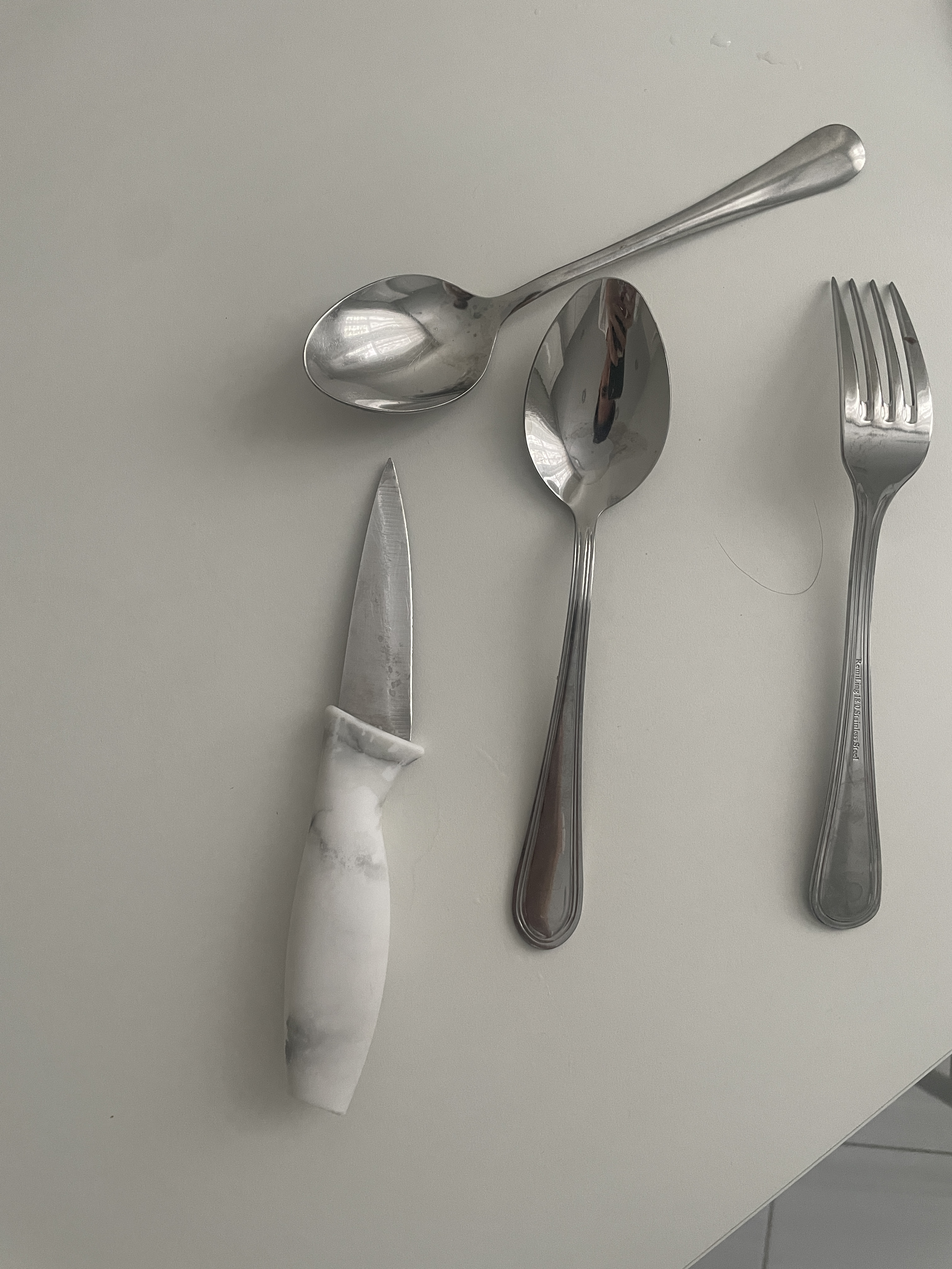knife: (284, 459, 424, 1114)
spoon: (304, 124, 865, 413), (513, 278, 670, 948)
